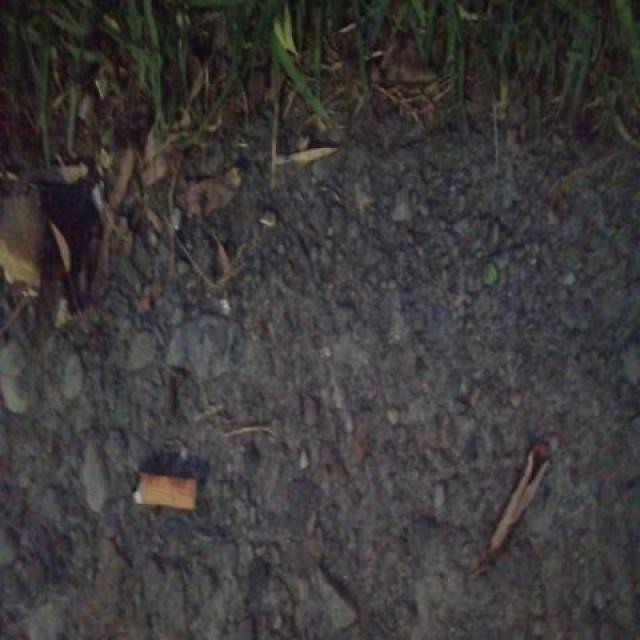non-organic waste: (123, 464, 205, 516)
